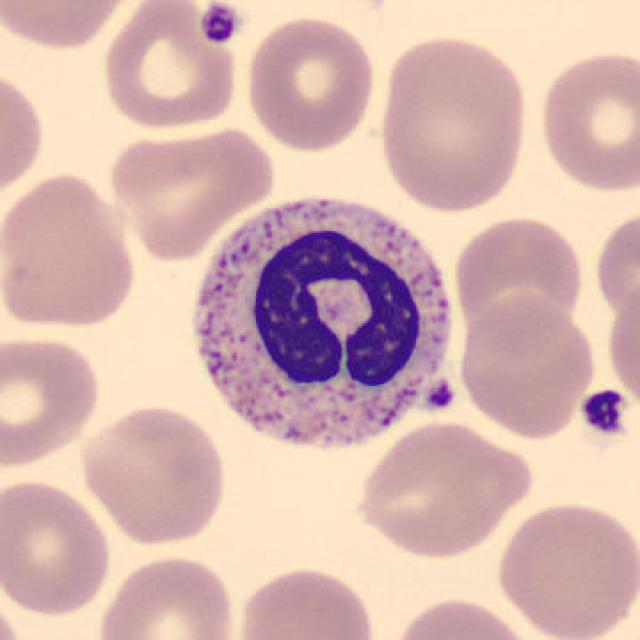Neutrophil: (175, 183, 470, 469)
Platelets: (578, 386, 629, 439), (196, 0, 243, 48), (418, 376, 461, 416)
RBC: (374, 30, 532, 215), (347, 418, 537, 561), (105, 120, 277, 261), (0, 167, 142, 335), (76, 401, 230, 548), (455, 291, 599, 441), (492, 497, 638, 640), (242, 11, 378, 155), (449, 212, 586, 352), (98, 2, 242, 132), (0, 474, 116, 619), (534, 46, 638, 196), (0, 331, 105, 471), (92, 552, 240, 640), (231, 562, 381, 640), (2, 0, 142, 53), (389, 592, 539, 640), (0, 62, 48, 206), (592, 203, 638, 333), (602, 268, 640, 418), (0, 583, 26, 640)
